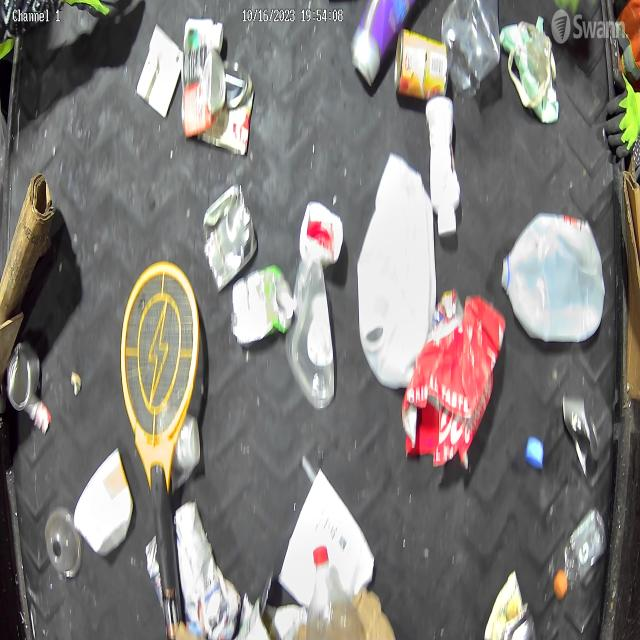can: (200, 181, 258, 300), (199, 55, 257, 164), (178, 39, 230, 145), (389, 26, 453, 109), (2, 341, 44, 423)
milk_jug: (355, 145, 441, 391), (502, 205, 610, 346)
non_white_jug: (352, 0, 417, 91)
plastic_bottle: (306, 538, 368, 640), (554, 506, 610, 604)
